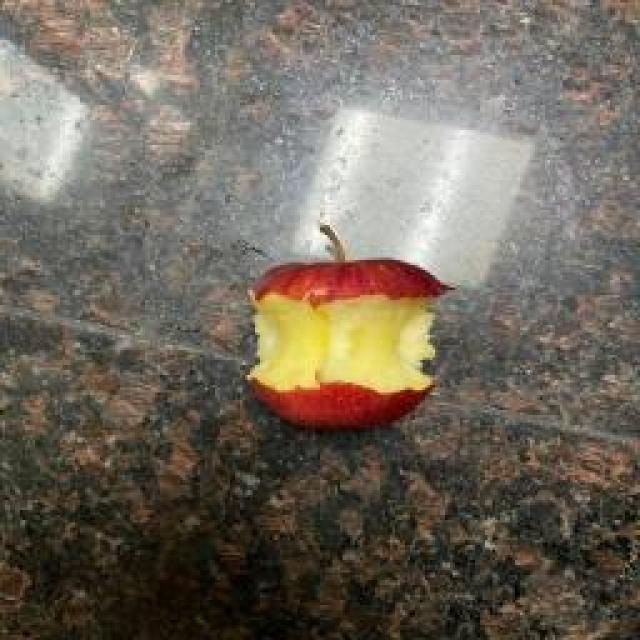Apple: (248, 258, 452, 428)
